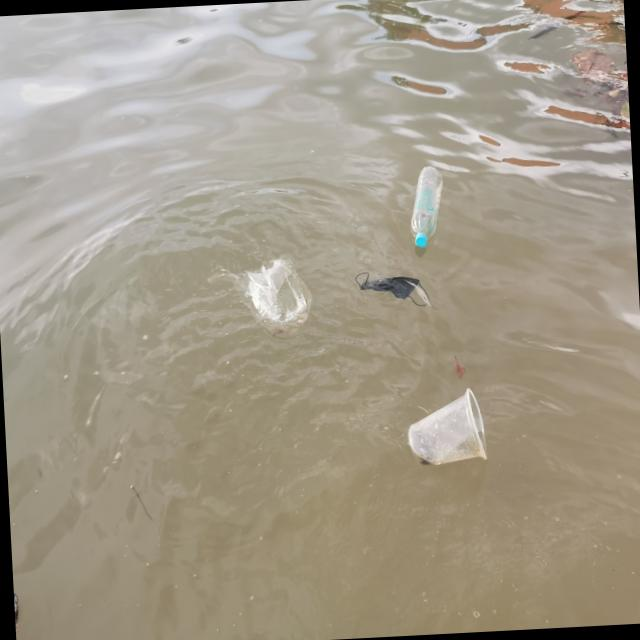can: (13, 567, 26, 640)
plastic bottle: (407, 162, 452, 252)
